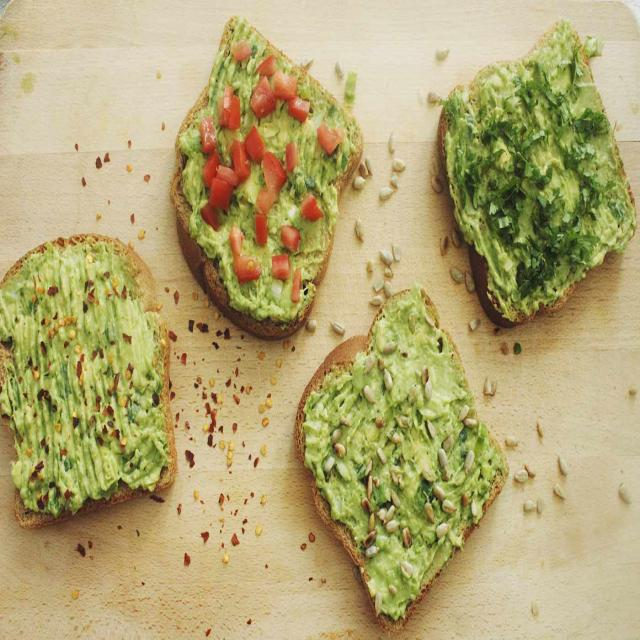aguacate: (442, 31, 634, 316)
